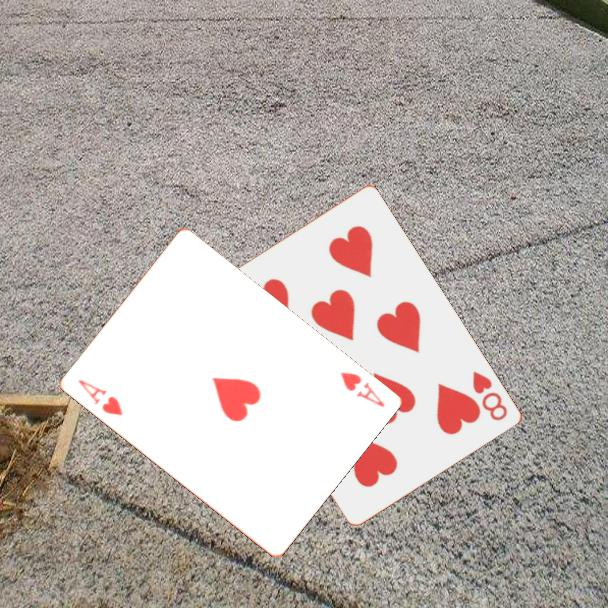h01: (74, 376, 126, 419), (336, 368, 388, 410)
h08: (468, 367, 510, 424)
